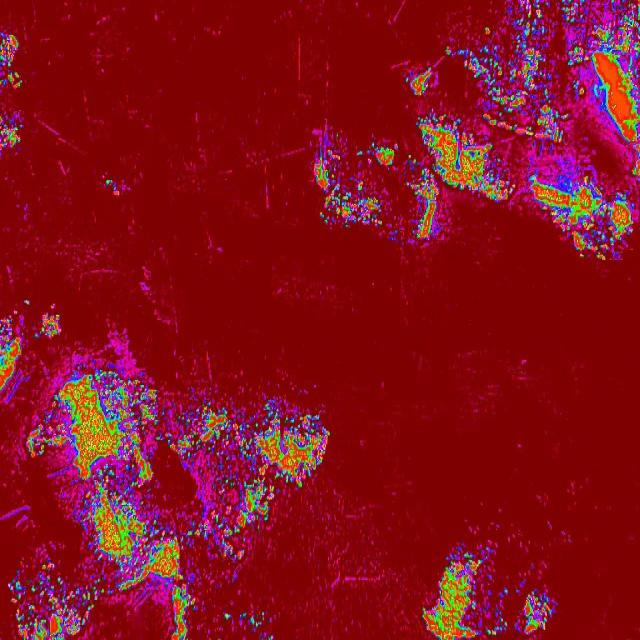fire: (12, 366, 250, 640), (404, 0, 640, 261), (418, 551, 556, 640), (312, 134, 403, 240), (250, 402, 331, 520), (0, 308, 66, 389), (0, 32, 25, 154)
